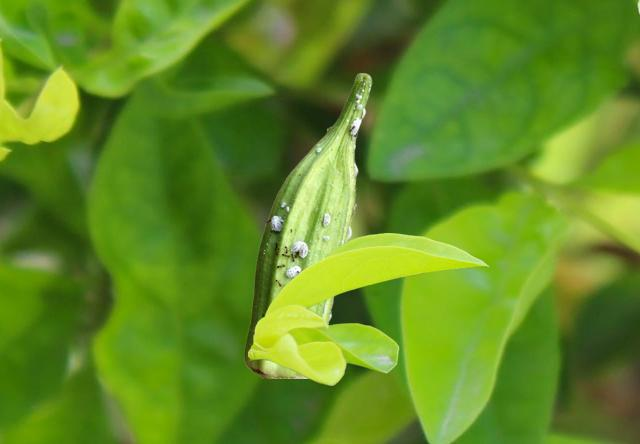okra: (244, 73, 371, 377)
